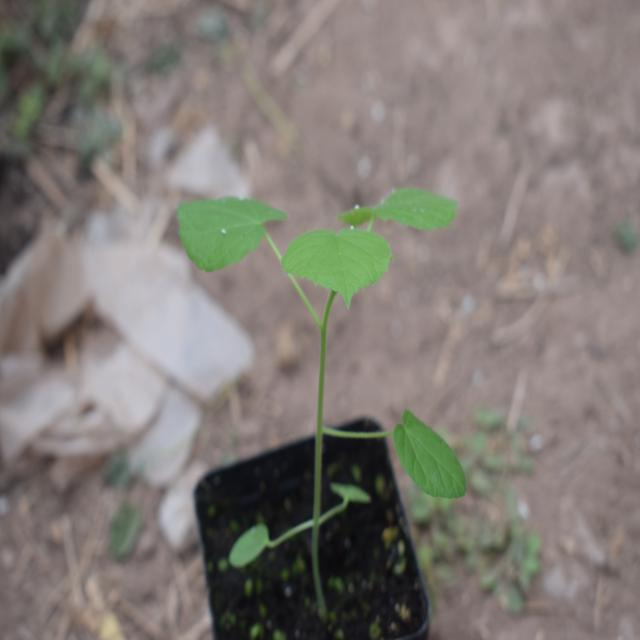abutilon theophrasti: (152, 129, 483, 573)
